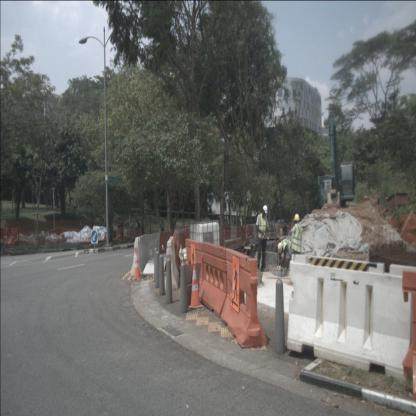human-pedestrian-adult: (160, 219, 165, 240)
movable_object-barrier: (287, 253, 415, 385), (220, 248, 267, 349), (198, 242, 232, 318), (184, 238, 209, 298), (163, 236, 180, 291), (130, 233, 148, 276), (169, 233, 182, 276), (146, 232, 160, 261), (0, 228, 20, 246), (159, 230, 173, 255), (223, 225, 231, 244), (230, 225, 238, 242), (245, 224, 253, 238), (236, 226, 244, 240)
movable_object-trafficcone: (187, 264, 203, 309), (132, 250, 143, 281)
vehicle-car: (275, 220, 285, 229)
